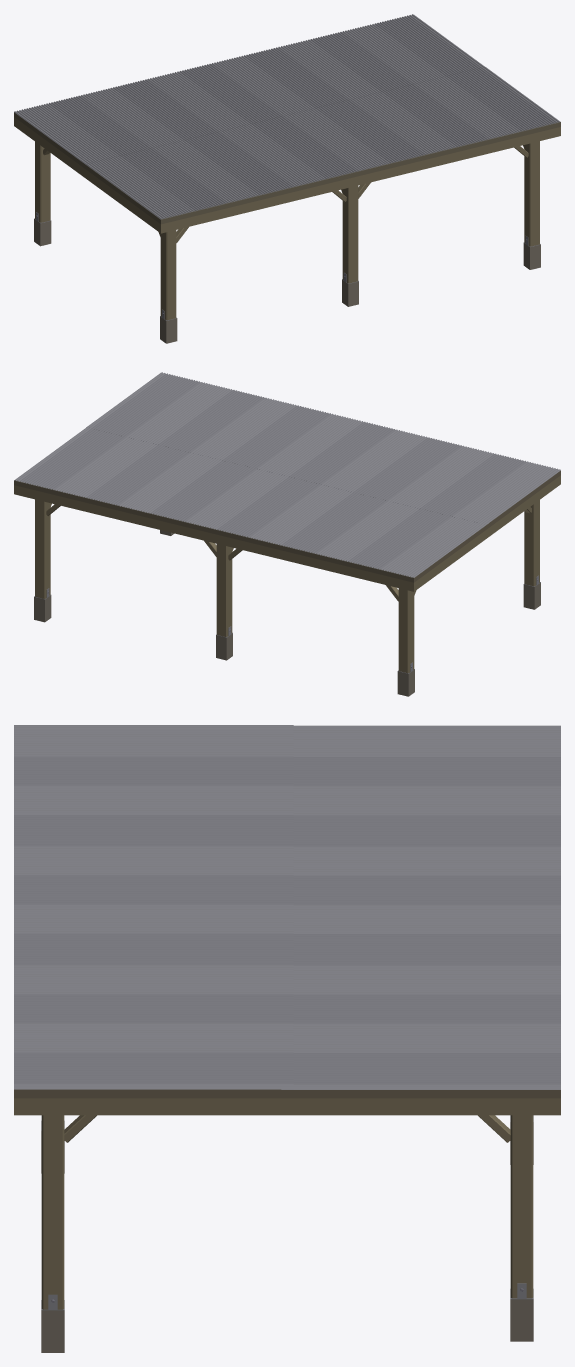
The model's file is sawmill_shed.glb.
3 views of the same model, one above another, from view 1: azimuth 30°, elevation 25°; view 2: azimuth 150°, elevation 25°; view 3: azimuth 270°, elevation 25° (orthographic). The views are drawn at different scales.
Visible parts, largest first — view 1: Shed; view 2: Shed; view 3: Shed.
Part boxes in pixels (x1,y1,x2,y2): Shed: [14, 14, 560, 343]; Shed: [14, 372, 560, 696]; Shed: [14, 725, 560, 1352].
Size of the model in its own units: 11 by 3.9 by 7.
